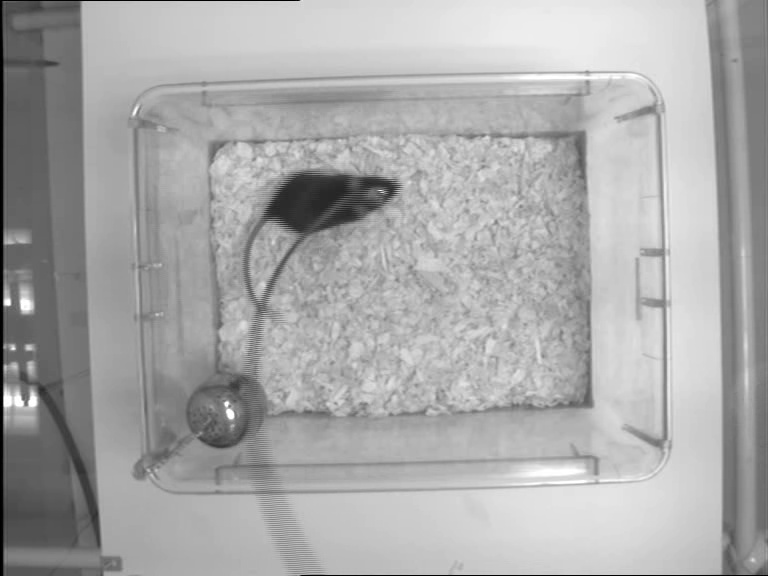mice: (244, 168, 401, 313)
